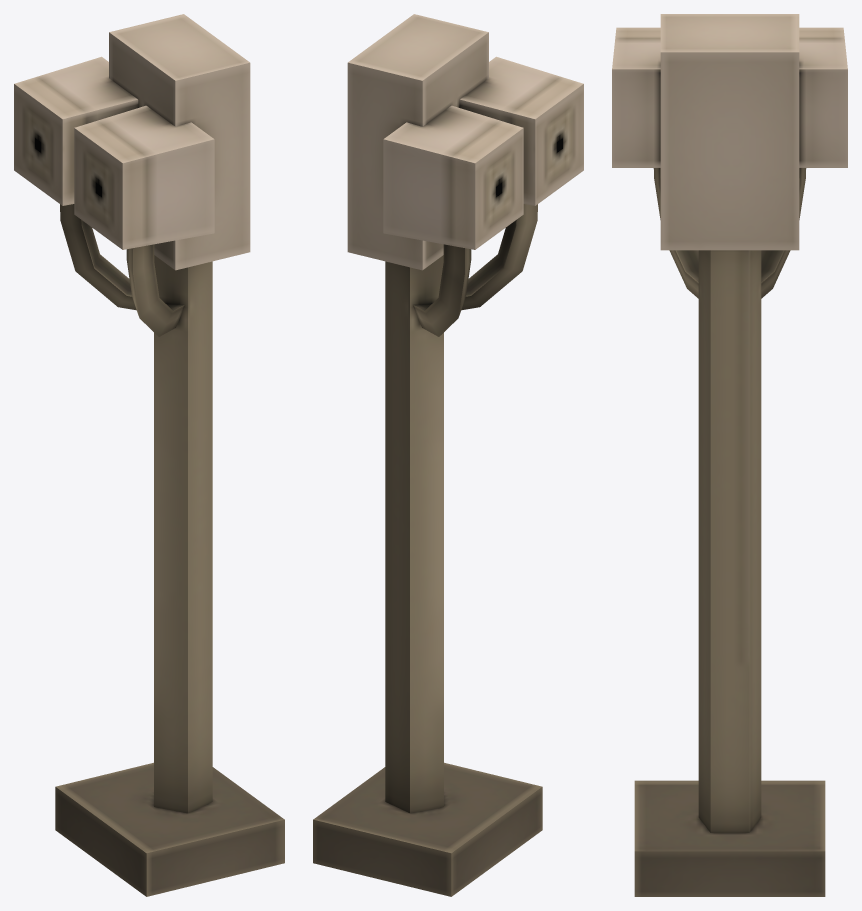
File: SleutelBlok.FBX
3 renders of one model, left to right at view 1: azimuth 30°, elevation 25°; view 2: azimuth 150°, elevation 25°; view 3: azimuth 270°, elevation 25°, orthographic. The views are drawn at different scales.
Parts seen in each view (by area): view 1: SleutelBlokje; view 2: SleutelBlokje; view 3: SleutelBlokje.
Boxes of the visible parts, x1,y1,x2,y2 form: SleutelBlokje: (14, 14, 284, 896); SleutelBlokje: (313, 14, 583, 896); SleutelBlokje: (612, 14, 847, 896).
Bounding box in the file's own units: 29.52 × 132 × 33.77.
1 material, 1 textured.
